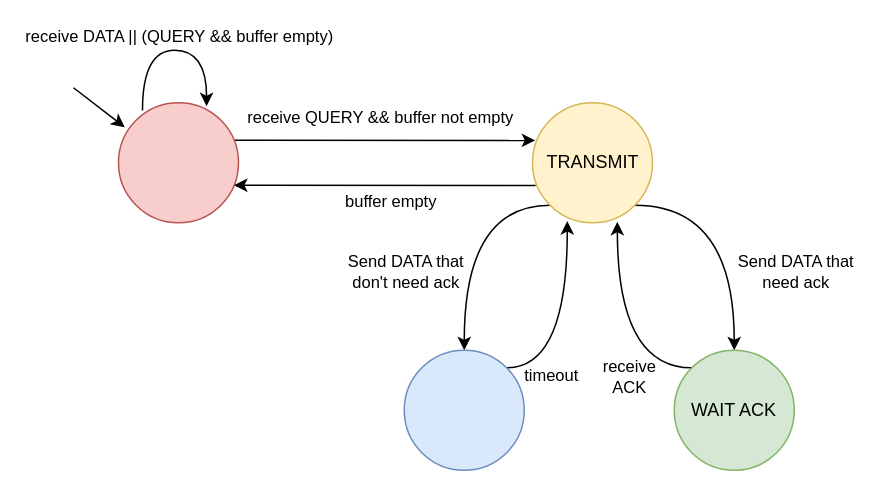
Some shapes in this 879 by 497 pixel diagram are drawn without their labels. The shapes that lost their labels are listed below. From the top down, each one's centre as x and y in pixels, then its label:
pixel 177 162: READY
pixel 463 409: WAIT TIMER
